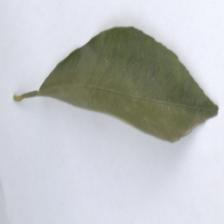healthy: (39, 24, 218, 147)
